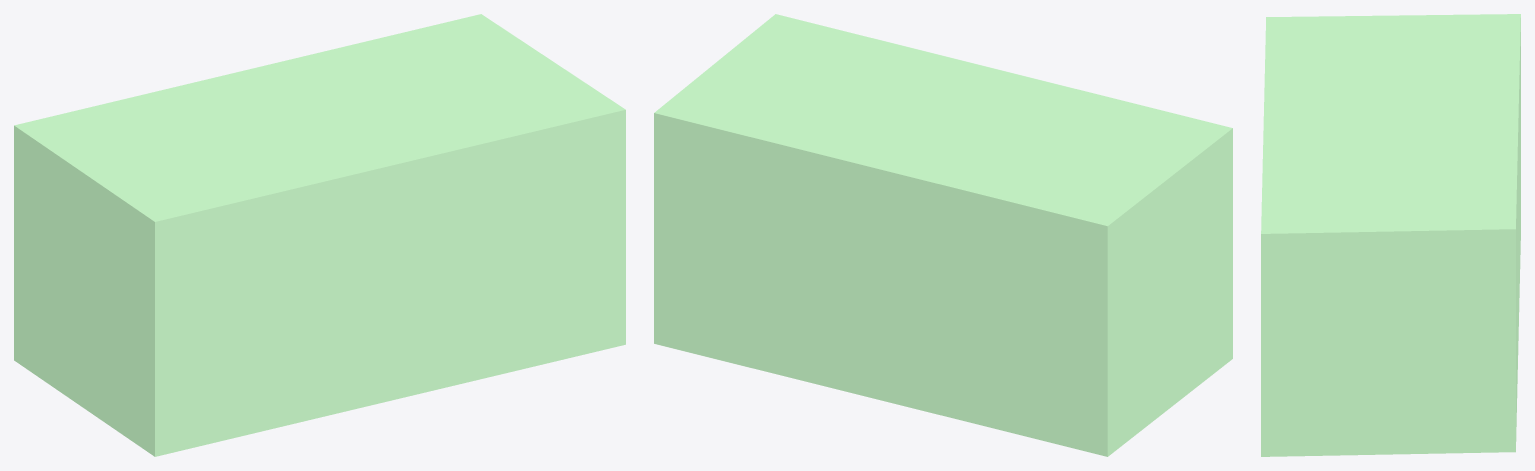
3 views of the same model, side by side, from view 1: azimuth 30°, elevation 25°; view 2: azimuth 150°, elevation 25°; view 3: azimuth 270°, elevation 25° (orthographic). The views are drawn at different scales.
Bounding box in the file's own units: 2.12 × 1 × 1.06.
